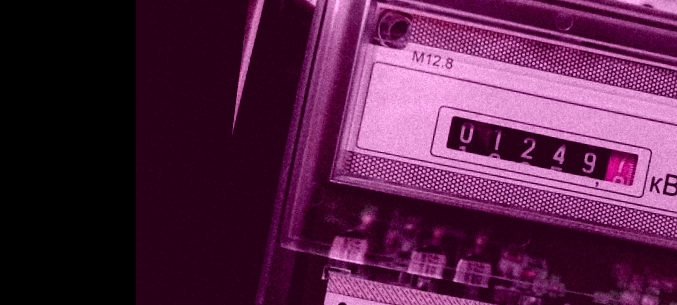0: (458, 118, 478, 146)
1: (489, 125, 506, 152)
2: (518, 135, 538, 162)
4: (551, 140, 570, 166)
7: (614, 148, 632, 176)
9: (579, 148, 599, 176)
screen: (426, 103, 658, 203)
